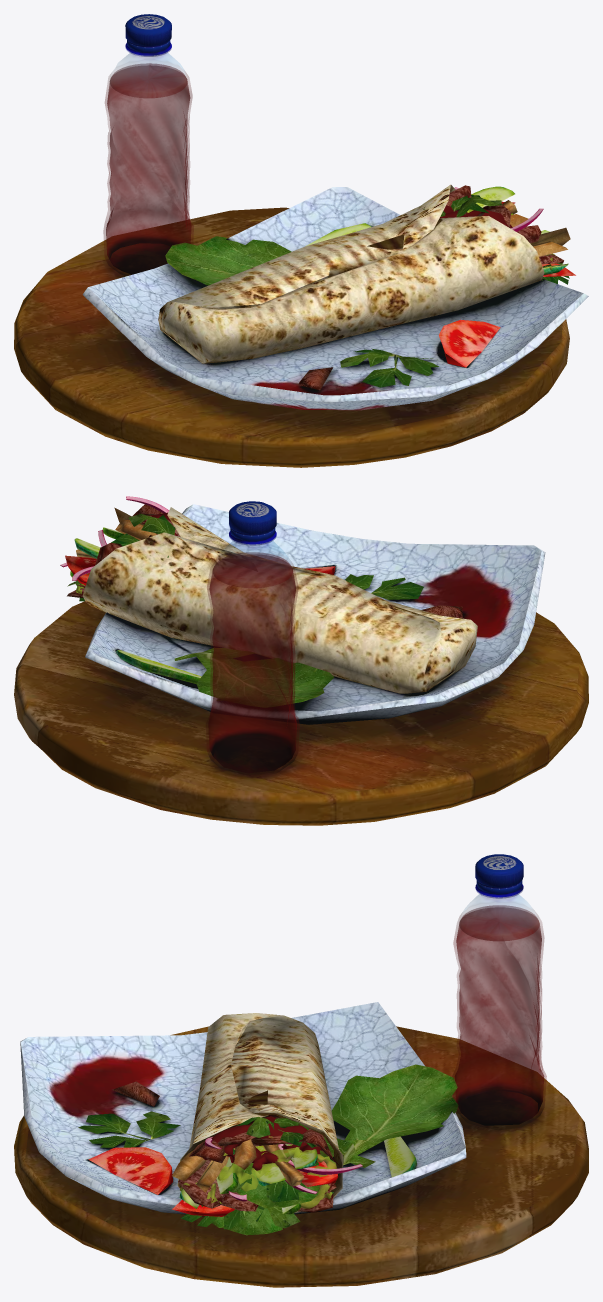
File: shawarma_deal-v2.glb
The picture shows the model from 3 angles, top to bottom: view 1: azimuth 30°, elevation 25°; view 2: azimuth 150°, elevation 25°; view 3: azimuth 270°, elevation 25°; orthographic projection. The views are drawn at different scales.
Parts seen in each view (by area): view 1: Table_Table_0, shava.002_Shava_0, tarelka_blude_0, botl_inside_botl_inside_0, botl_base_botl_opacity_0, luk014_salat_0, botle_cap_botl_cap_0; view 2: Table_Table_0, shava.002_Shava_0, tarelka_blude_0, botl_inside_botl_inside_0, botl_base_botl_opacity_0, luk014_salat_0, botle_cap_botl_cap_0; view 3: Table_Table_0, tarelka_blude_0, luk014_salat_0, botl_inside_botl_inside_0, botl_base_botl_opacity_0, shava.002_Shava_0, botle_cap_botl_cap_0, cheez_mayonez_0, mayonez_ketchup_0.
Part boxes in pixels (x1,y1,x2,y2): Table_Table_0: (14,207,569,467); shava.002_Shava_0: (158,184,544,363); tarelka_blude_0: (82,187,588,410); botl_inside_botl_inside_0: (106,63,191,274); botl_base_botl_opacity_0: (103,48,193,275); luk014_salat_0: (165,185,575,390); botle_cap_botl_cap_0: (125,14,171,55); Table_Table_0: (14,601,588,825); shava.002_Shava_0: (82,507,477,693); tarelka_blude_0: (85,504,545,724); botl_inside_botl_inside_0: (208,552,296,773); botl_base_botl_opacity_0: (206,536,299,775); luk014_salat_0: (60,496,462,707); botle_cap_botl_cap_0: (229,501,276,544); Table_Table_0: (14,1026,588,1287); tarelka_blude_0: (20,1002,466,1216); luk014_salat_0: (78,1064,458,1235); botl_inside_botl_inside_0: (455,905,544,1125); botl_base_botl_opacity_0: (452,888,546,1129); shava.002_Shava_0: (177,1013,342,1212); botle_cap_botl_cap_0: (475,854,523,897); cheez_mayonez_0: (180,1147,336,1208); mayonez_ketchup_0: (203,1116,321,1170).
Bounding box in the file's own units: 0.7059 × 0.3798 × 0.7037.
9 materials, 8 textured.
